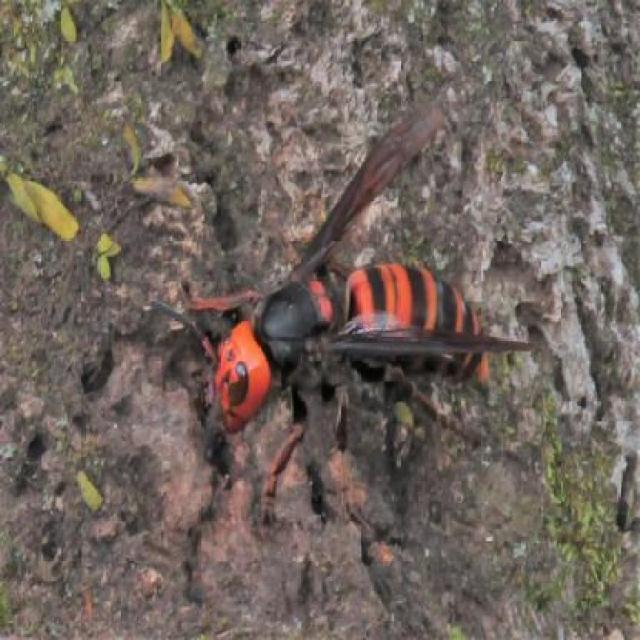Wasp: (192, 86, 531, 492)
